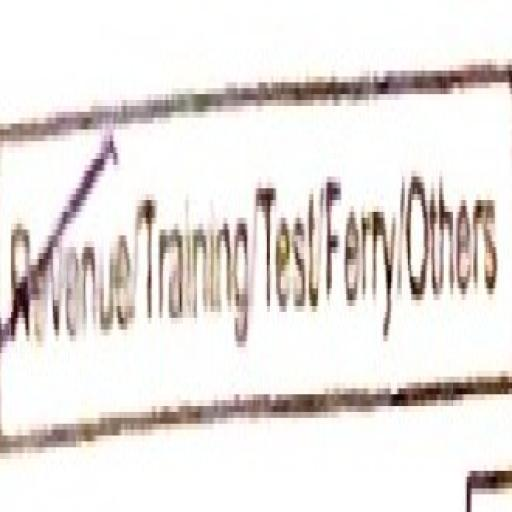check: (2, 91, 137, 496)
